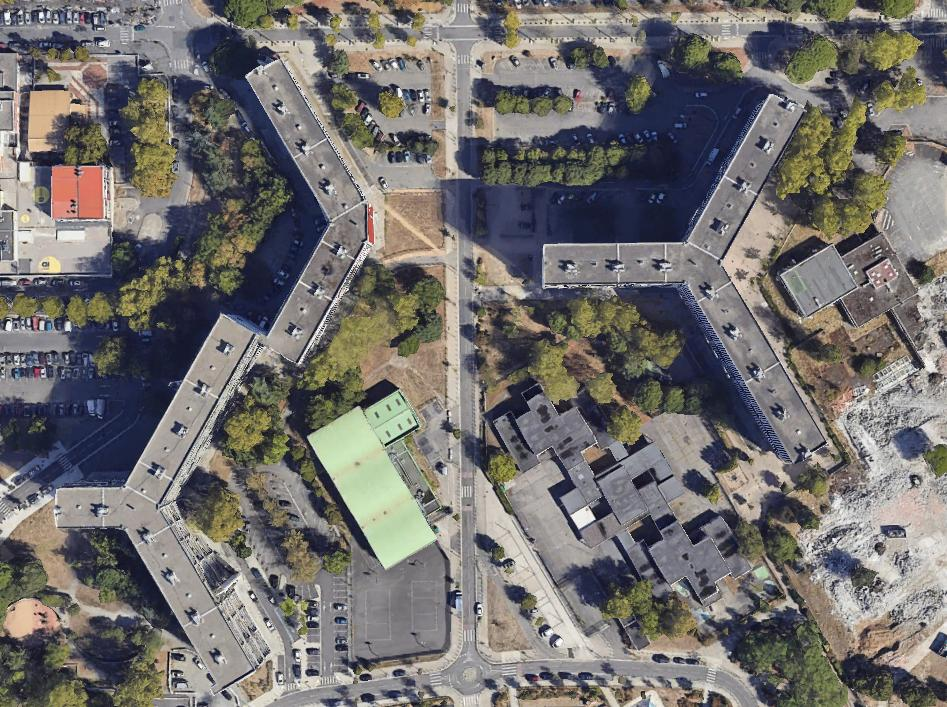immeuble: (110, 498, 275, 698), (676, 259, 828, 470), (125, 310, 265, 512), (261, 190, 386, 365), (685, 89, 806, 263), (243, 57, 368, 224), (543, 240, 721, 288), (57, 486, 162, 530)
